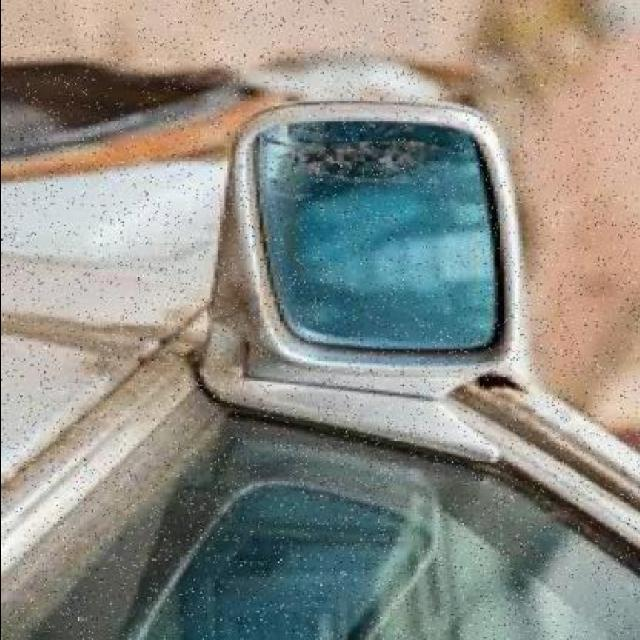Sidemirror-Damage: (203, 81, 539, 385)
